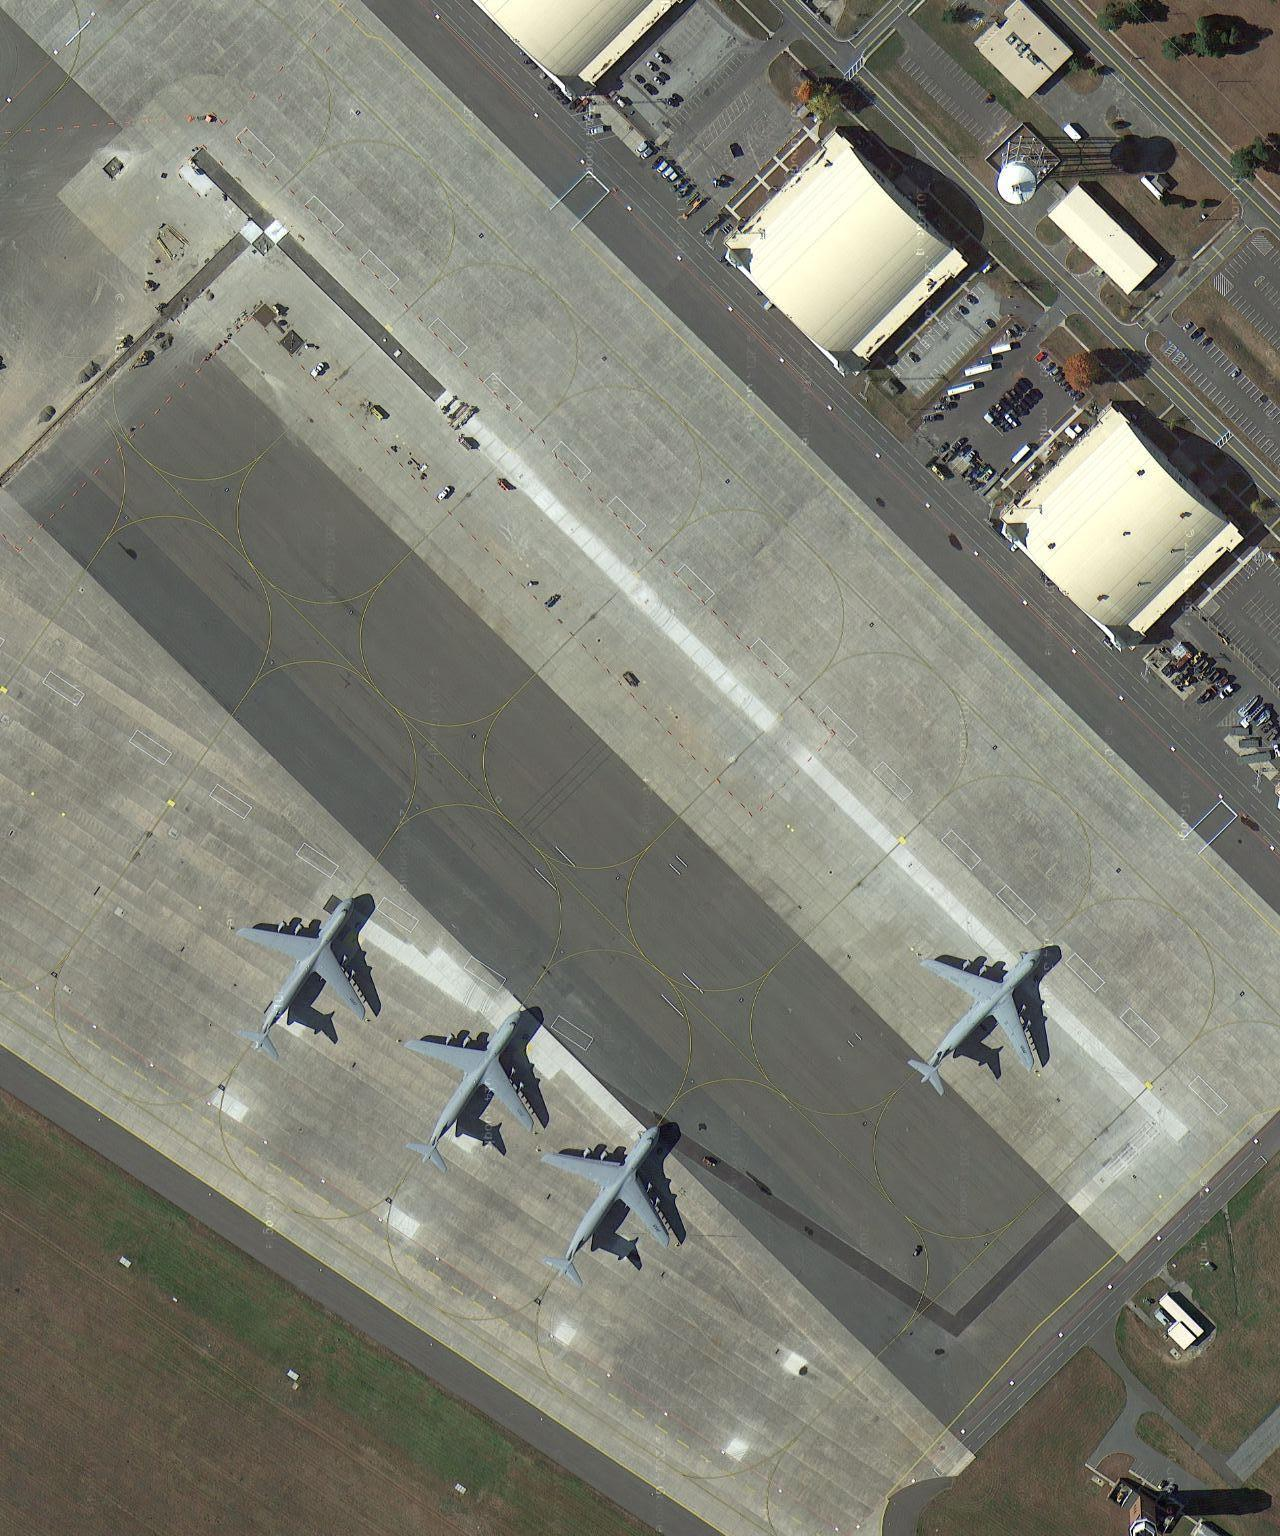KC-135: (535, 1112, 698, 1294), (900, 931, 1066, 1096), (228, 884, 378, 1063), (403, 1000, 545, 1179)
